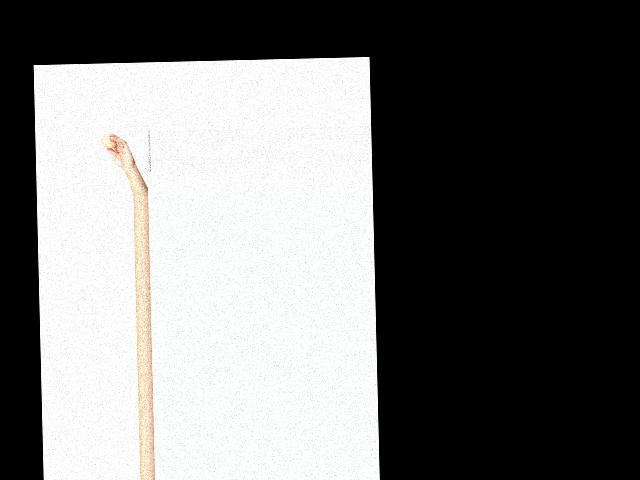egg: (99, 136, 117, 148)
